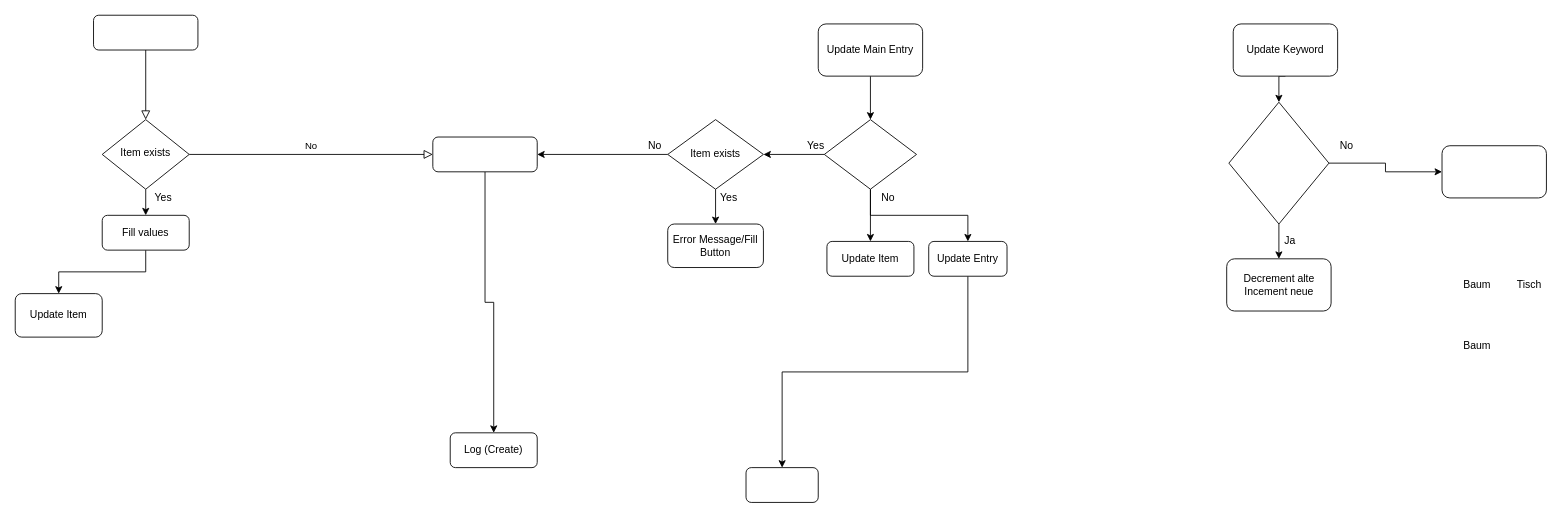
Some shapes in this 1562 by 518 pixel diagram are drawn without their labels. The centre of each missing label's shape, as x and y in pixels:
"Create Item" belongs at (484,154).
"Create Main Entry" belongs at (145,32).
"Item Name changed" belongs at (870,154).
"Log (Update)" belongs at (781,484).
"Neue Keywords mehr als alte?" belongs at (1278,162).
